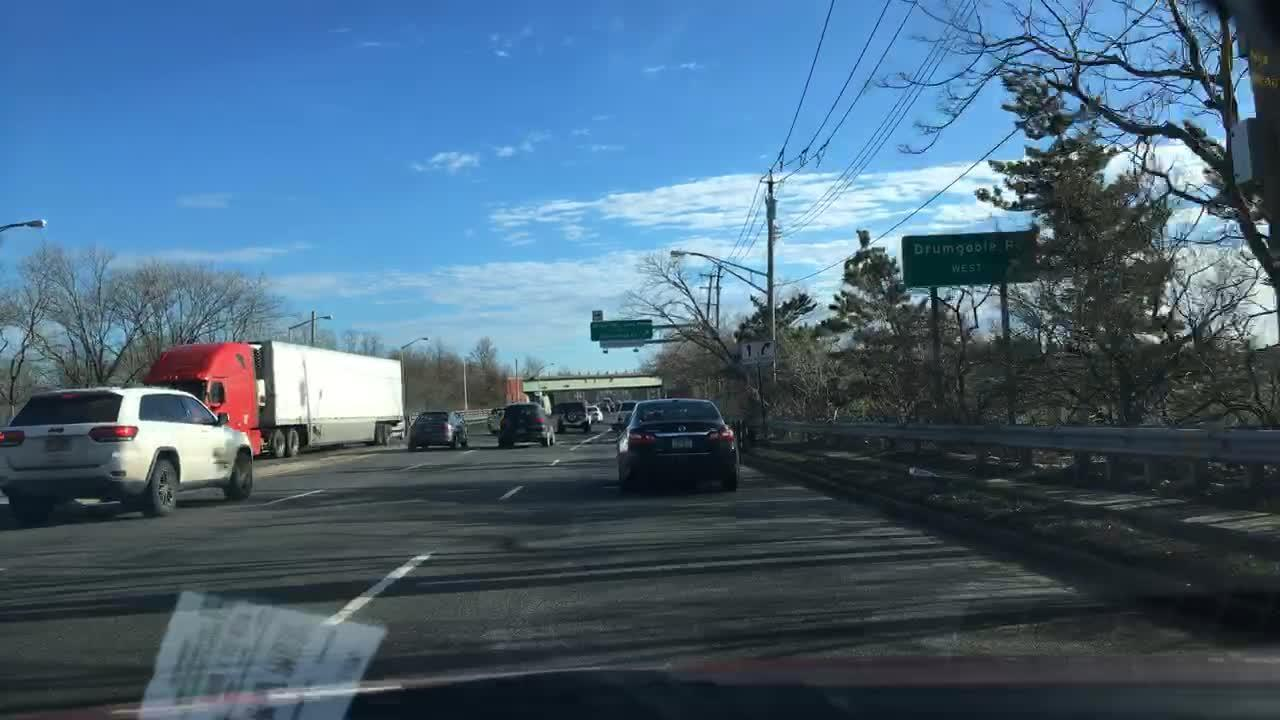jeep: (44, 422, 76, 440)
